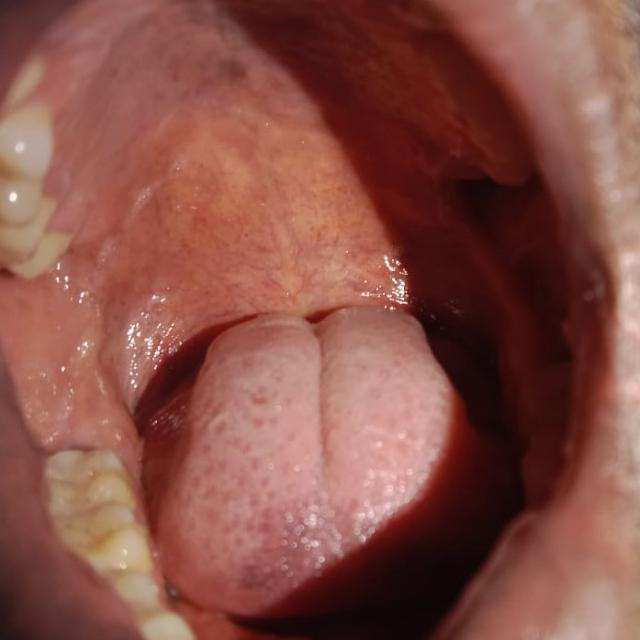No Cancer: (164, 218, 498, 598)
